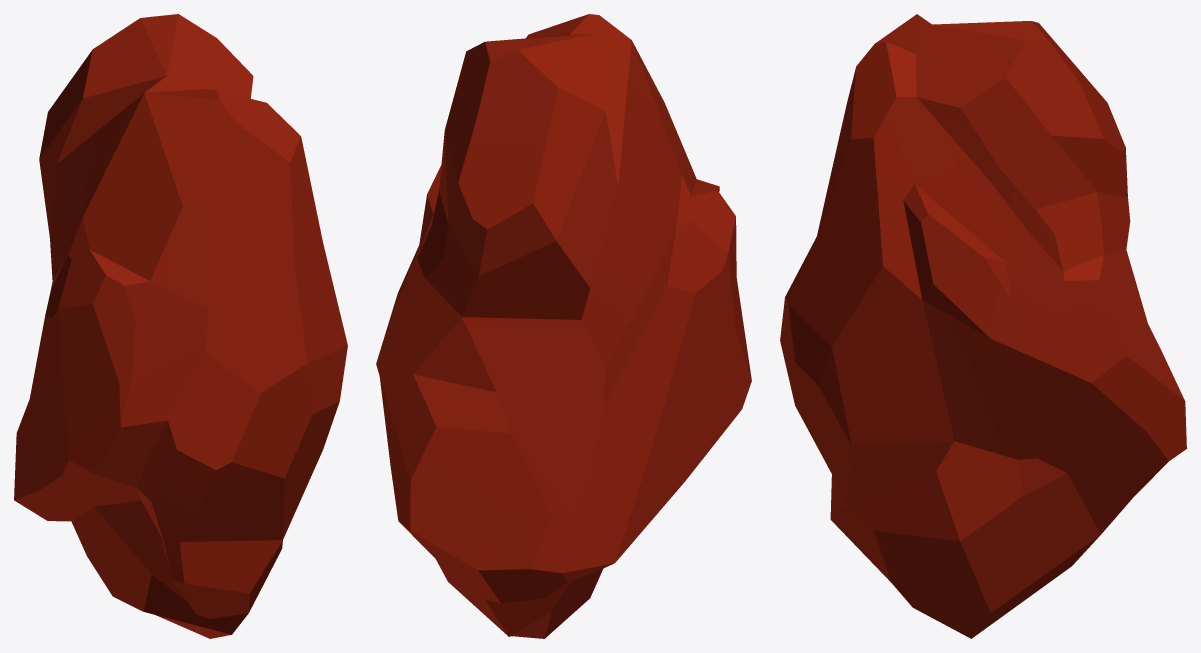
Rendered from SM_Large_Rock_03.fbx.
3 views of the same model, side by side, from view 1: azimuth 30°, elevation 25°; view 2: azimuth 150°, elevation 25°; view 3: azimuth 270°, elevation 25° (orthographic). The views are drawn at different scales.
Parts seen in each view (by area): view 1: SM_Large_Rock_03; view 2: SM_Large_Rock_03; view 3: SM_Large_Rock_03.
Boxes of the visible parts, box(x1,y1,x2,y2) form: SM_Large_Rock_03: box(14, 14, 347, 638); SM_Large_Rock_03: box(376, 14, 751, 638); SM_Large_Rock_03: box(780, 14, 1186, 638).
Bounding box in the file's own units: 98.88 × 208 × 128.
